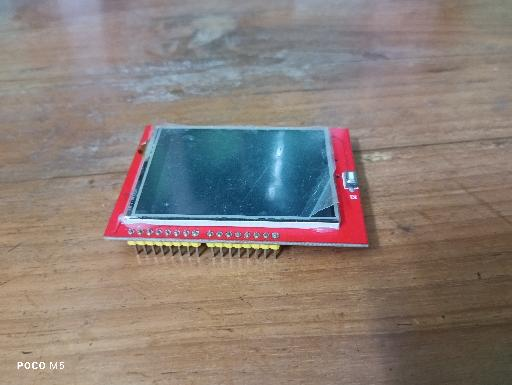Display: (102, 123, 370, 261)
